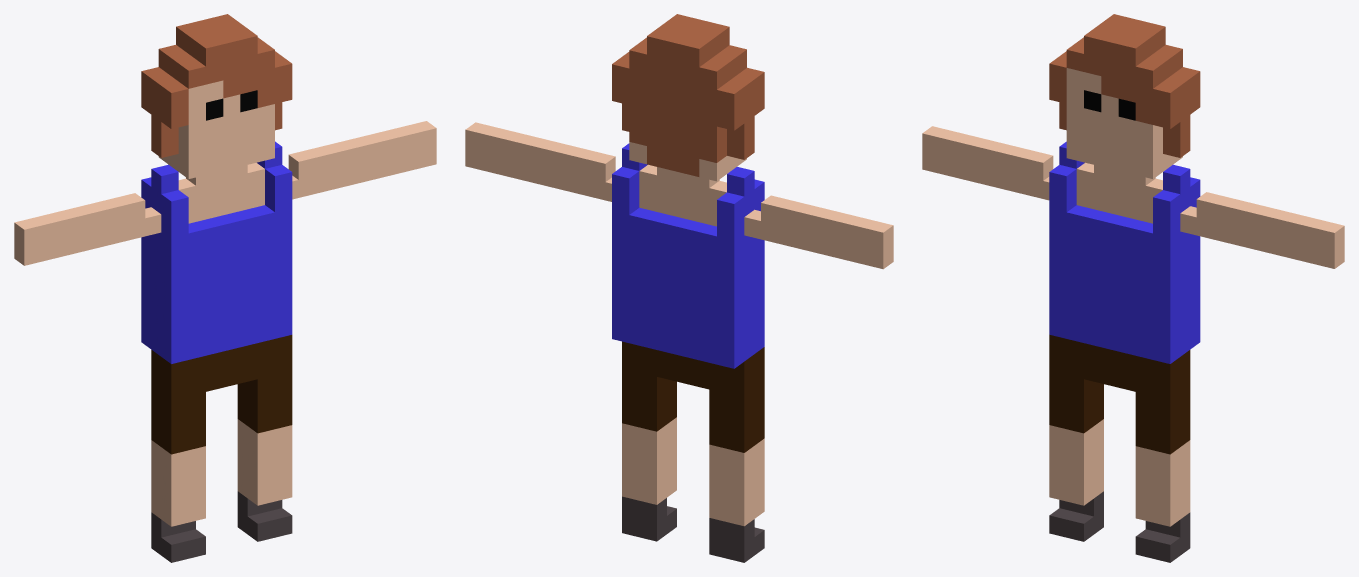
Rendered from personaje_2.glb.
The picture shows the model from 3 angles, left to right: view 1: azimuth 30°, elevation 25°; view 2: azimuth 150°, elevation 25°; view 3: azimuth 330°, elevation 25°; orthographic projection.
Visible parts, largest first — view 1: personaje_2; view 2: personaje_2; view 3: personaje_2.
Boxes of the visible parts, box(x1,y1,x2,y2) form: personaje_2: box(14, 14, 436, 562); personaje_2: box(465, 14, 893, 562); personaje_2: box(922, 14, 1344, 562).
Bounding box in the file's own units: 47.76 × 56 × 6.
